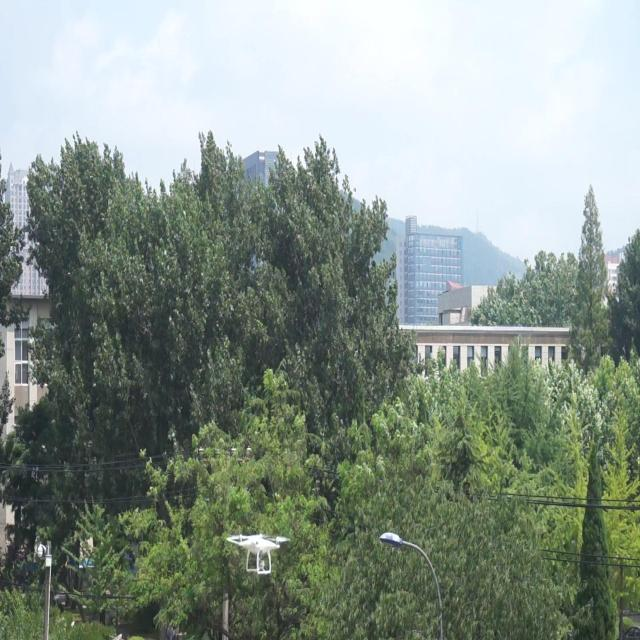drone: (225, 529, 291, 576)
